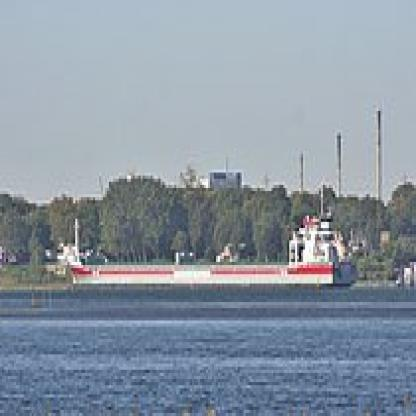Tanker: (67, 257, 362, 290)
